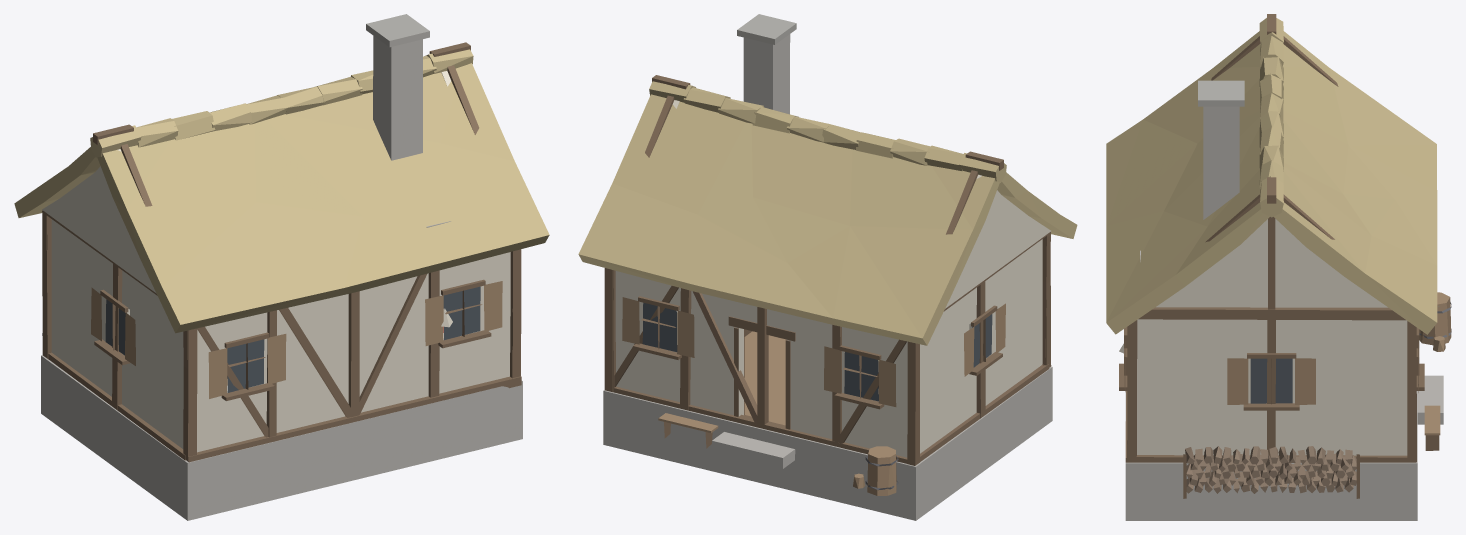
Rendered from house_a_lod1.glb.
3 renders of one model, left to right at view 1: azimuth 30°, elevation 25°; view 2: azimuth 150°, elevation 25°; view 3: azimuth 270°, elevation 25°, orthographic. The views are drawn at different scales.
Parts seen in each view (by area): view 1: house_a.001; view 2: house_a.001; view 3: house_a.001.
Part boxes in pixels (bbox=[...]): house_a.001: bbox=[14, 14, 549, 520]; house_a.001: bbox=[578, 14, 1077, 520]; house_a.001: bbox=[1106, 14, 1451, 520].
Size of the model in its own units: 9.29 by 9.31 by 7.42.
